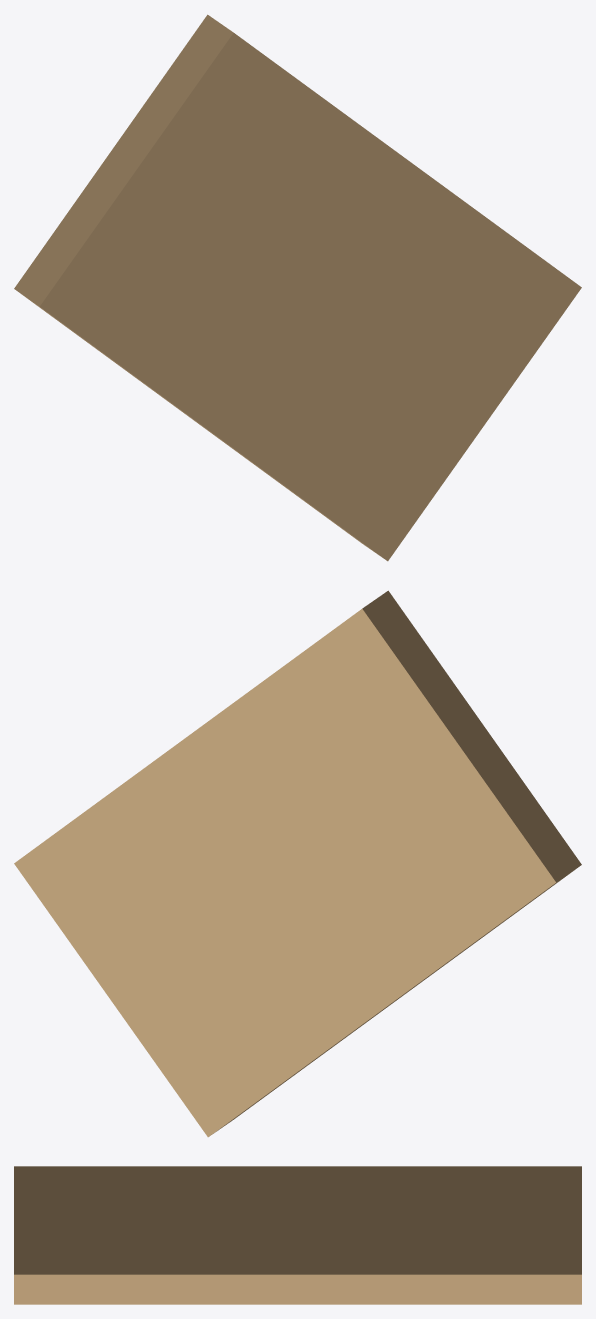
The picture shows the model from 3 angles, top to bottom: view 1: azimuth 30°, elevation 25°; view 2: azimuth 150°, elevation 25°; view 3: azimuth 270°, elevation 25°; orthographic projection. The views are drawn at different scales.
Parts seen in each view (by area): view 1: 0_2_3_2_2_0_2_2_2_0_3; view 2: 0_2_3_2_2_0_2_2_2_0_3; view 3: 0_2_3_2_2_0_2_2_2_0_3.
Boxes of the visible parts, x1,y1,x2,y2 form: 0_2_3_2_2_0_2_2_2_0_3: (14,14,581,561); 0_2_3_2_2_0_2_2_2_0_3: (14,590,581,1137); 0_2_3_2_2_0_2_2_2_0_3: (14,1166,581,1304).
Size of the model in its own units: 7.65 by 8.36 by 21.
